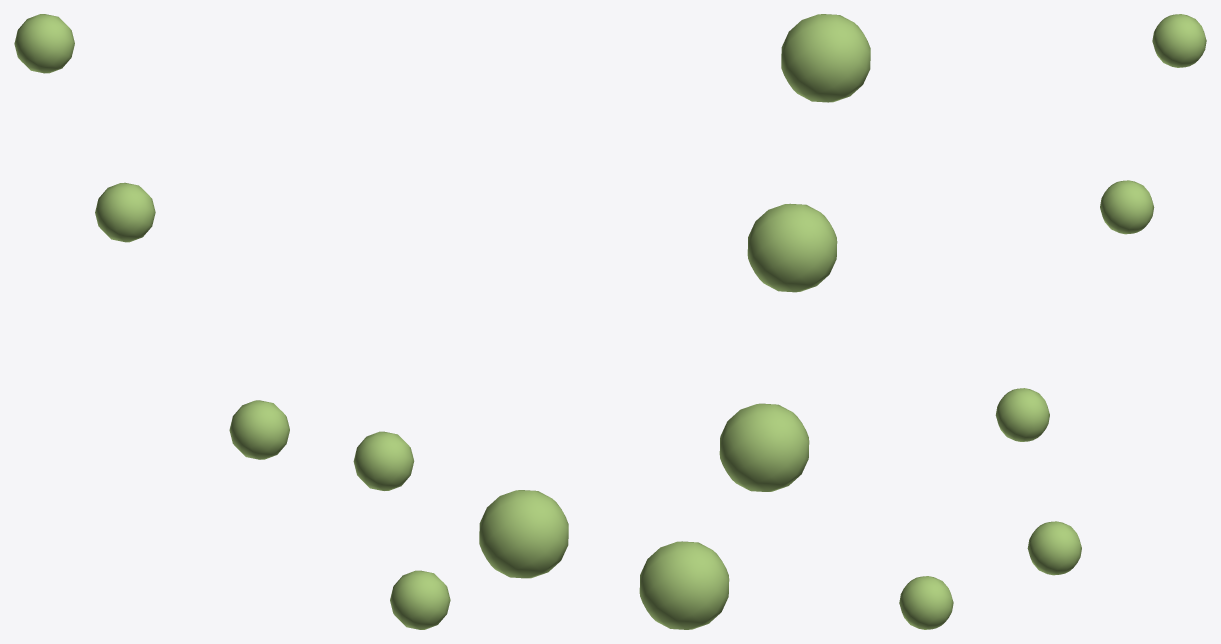
The model's file is supratrochlear-nodes-r.glb.
3 views of the same model, side by side, from view 1: azimuth 30°, elevation 25°; view 2: azimuth 150°, elevation 25°; view 3: azimuth 270°, elevation 25° (orthographic). The views are drawn at different scales.
Parts seen in each view (by area): view 1: Supratrochlear nodes.r; view 2: Supratrochlear nodes.r; view 3: Supratrochlear nodes.r.
Boxes of the visible parts, box(x1,y1,x2,y2) form: Supratrochlear nodes.r: box(14, 14, 450, 629); Supratrochlear nodes.r: box(479, 14, 870, 629); Supratrochlear nodes.r: box(899, 14, 1206, 629).
Size of the model in its own units: 0.0159 by 0.0266 by 0.0146.
